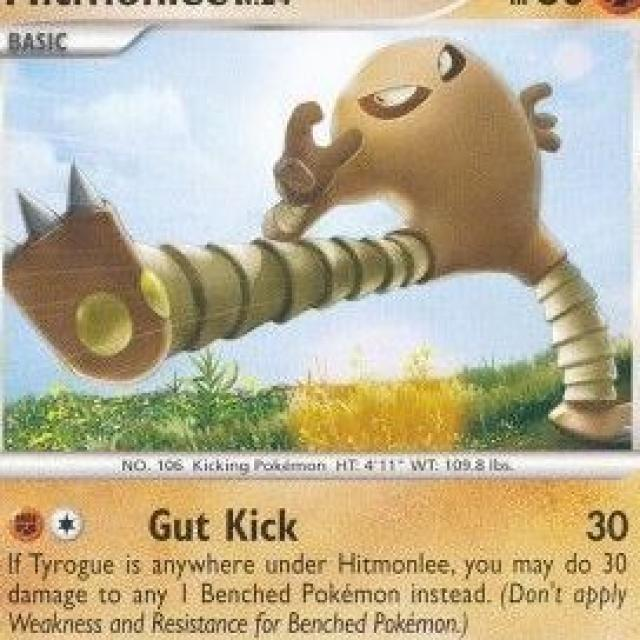Hitmonlee: (274, 41, 589, 338)
